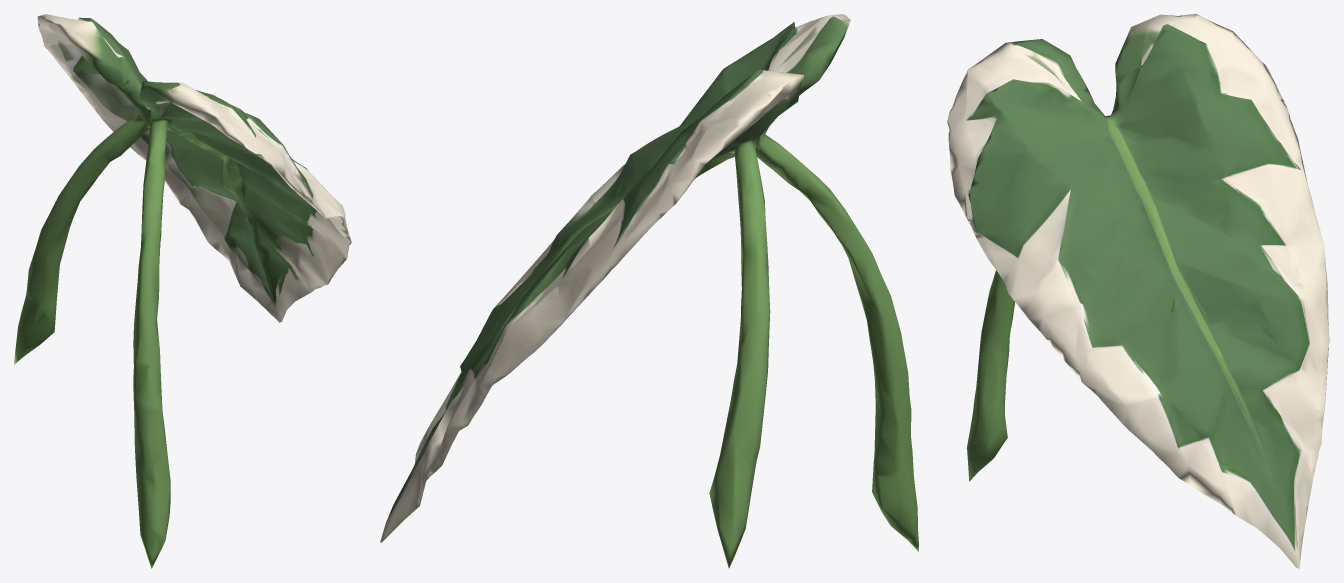
The model's file is sc_mature_njoy_tripo.glb.
3 views of the same model, side by side, from view 1: azimuth 30°, elevation 25°; view 2: azimuth 150°, elevation 25°; view 3: azimuth 270°, elevation 25° (orthographic). The views are drawn at different scales.
Parts seen in each view (by area): view 1: tripo_node_39cb35bd-5822-44e8-893d-3d9ec26c3b4a; view 2: tripo_node_39cb35bd-5822-44e8-893d-3d9ec26c3b4a; view 3: tripo_node_39cb35bd-5822-44e8-893d-3d9ec26c3b4a.
Part boxes in pixels (left/top/right/bottom): tripo_node_39cb35bd-5822-44e8-893d-3d9ec26c3b4a: left=14, top=14, right=351, bottom=568; tripo_node_39cb35bd-5822-44e8-893d-3d9ec26c3b4a: left=380, top=14, right=918, bottom=568; tripo_node_39cb35bd-5822-44e8-893d-3d9ec26c3b4a: left=947, top=14, right=1329, bottom=568.
Bounding box in the file's own units: 0.6582 × 1 × 0.728.
Materials: 1 (1 with a texture image).
